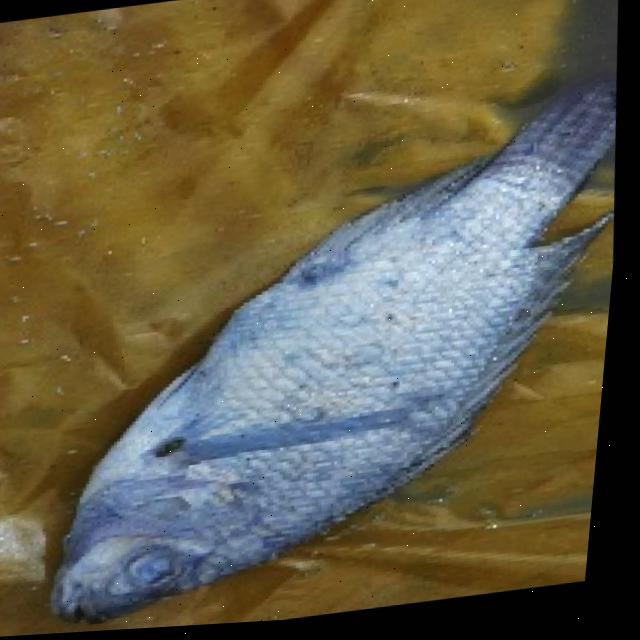Non-Fresh: (26, 180, 625, 637)
